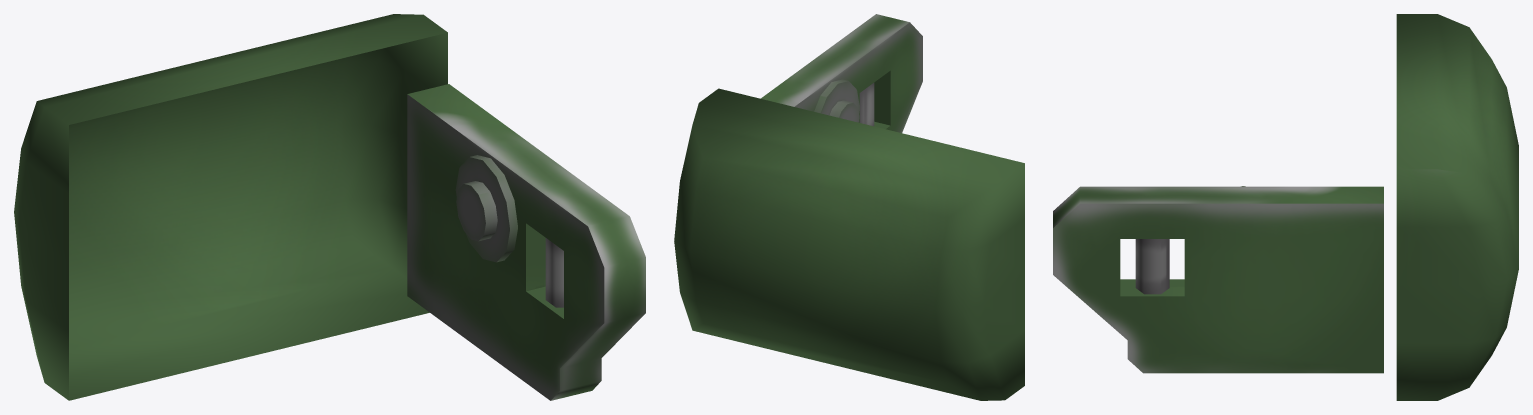
File: MainGunBase.fbx
The picture shows the model from 3 angles, left to right: view 1: azimuth 30°, elevation 25°; view 2: azimuth 150°, elevation 25°; view 3: azimuth 270°, elevation 25°; orthographic projection. The views are drawn at different scales.
Parts seen in each view (by area): view 1: Cube; view 2: Cube; view 3: Cube.
Boxes of the visible parts, <box> form: Cube: <box>14,14,645,400</box>; Cube: <box>674,14,1024,400</box>; Cube: <box>1053,14,1518,400</box>.
Size of the model in its own units: 93.54 by 65.02 by 118.
